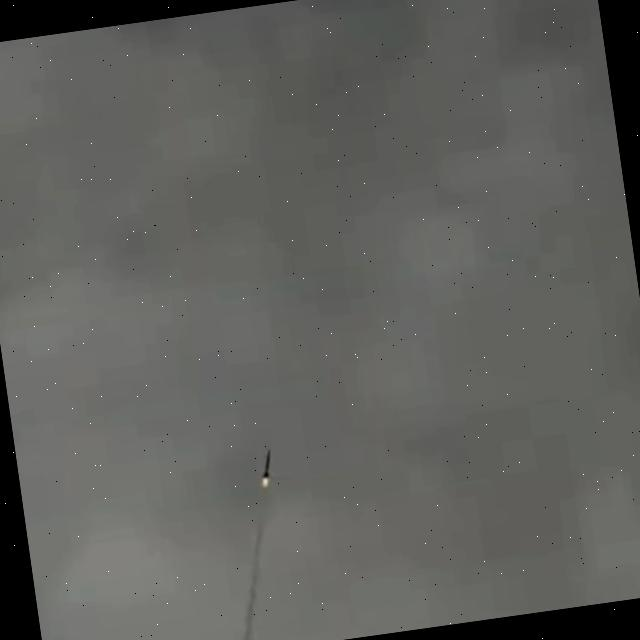smoke_trail_with_rocket: (241, 450, 273, 640)
